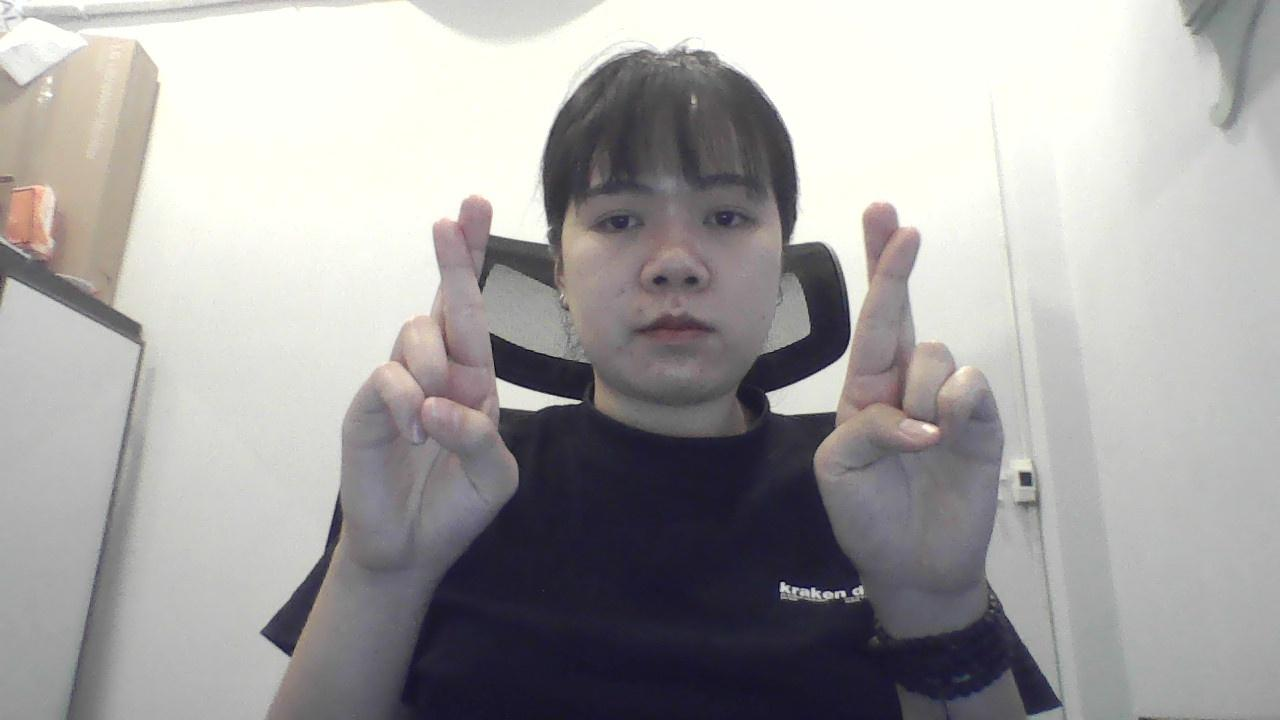R: (801, 178, 1048, 602), (330, 184, 530, 583)
